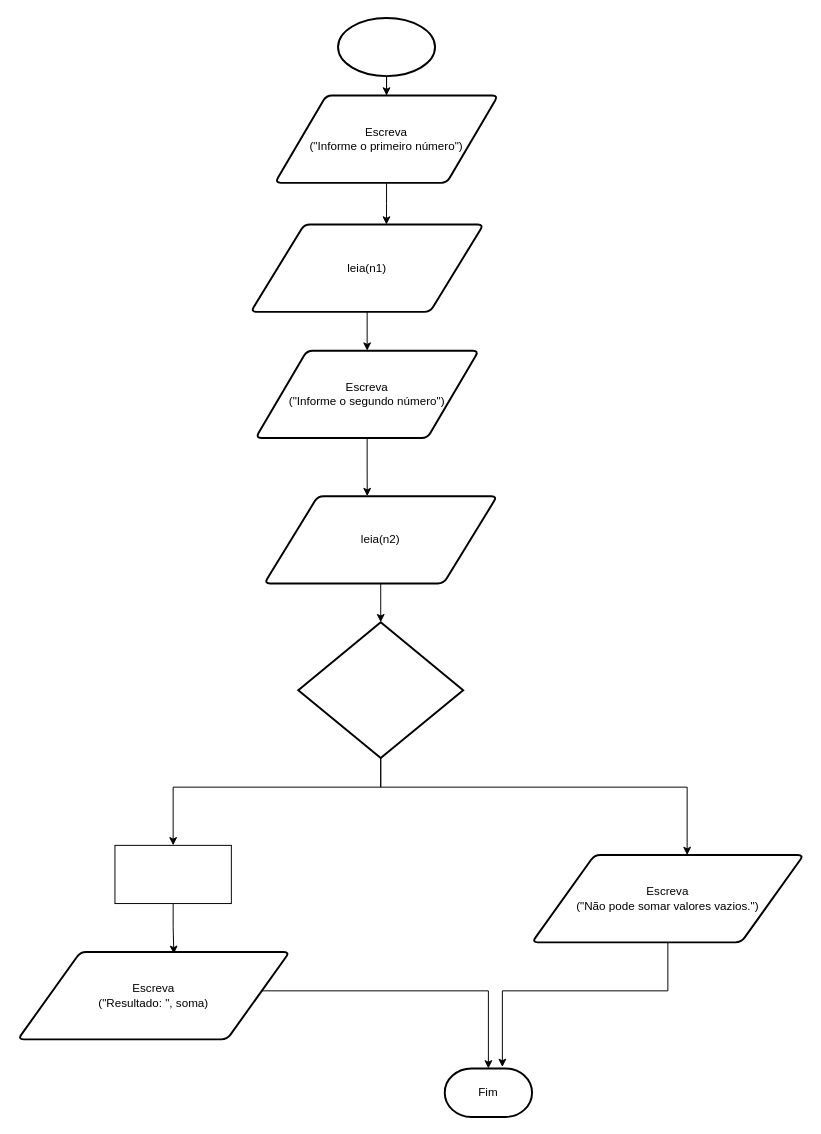
Image size: 821x1134. Some labels were removed from this diagram. Each missing label, with the centre of its shape:
inicio: pixel 386 46
se (n1 == 0 ou n2 == 0): pixel 380 690
soma = n1 = n2: pixel 172 874
